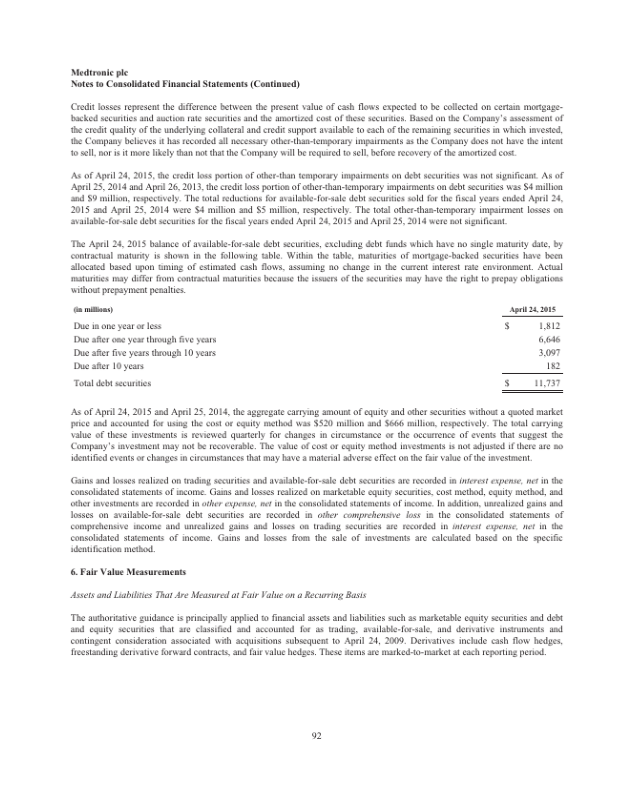table: (494, 297, 566, 400)
